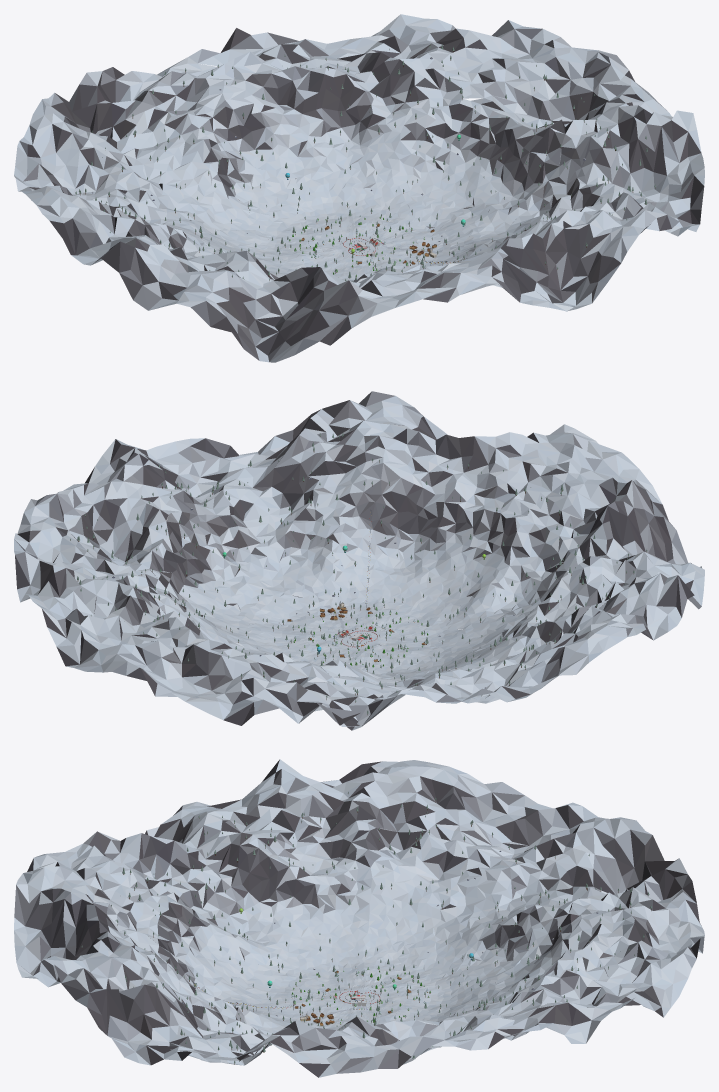
Rendered from world_race.glb.
The picture shows the model from 3 angles, top to bottom: view 1: azimuth 30°, elevation 25°; view 2: azimuth 150°, elevation 25°; view 3: azimuth 270°, elevation 25°; orthographic projection.
Visible parts, largest first — view 1: Sector4, Sector5, Sector6, Sector3, Sector0, Sector7, Sector2, Sector1; view 2: Sector1, Sector2, Sector3, Sector4, Sector5, Sector0, Sector7, Sector6; view 3: Sector7, Sector0, Sector6, Sector1, Sector2, Sector5, Sector3, Sector4.
Boxes of the visible parts, x1=… form: Sector4: x1=359, y1=20, x2=656, y2=247; Sector5: x1=188, y1=14, x2=452, y2=245; Sector6: x1=29, y1=57, x2=357, y2=246; Sector3: x1=360, y1=89, x2=704, y2=256; Sector0: x1=59, y1=215, x2=360, y2=362; Sector7: x1=14, y1=124, x2=356, y2=263; Sector2: x1=360, y1=192, x2=690, y2=311; Sector1: x1=268, y1=247, x2=521, y2=362; Sector1: x1=360, y1=424, x2=688, y2=638; Sector2: x1=270, y1=391, x2=495, y2=638; Sector3: x1=63, y1=435, x2=360, y2=637; Sector4: x1=14, y1=485, x2=359, y2=646; Sector5: x1=25, y1=580, x2=357, y2=701; Sector0: x1=359, y1=524, x2=704, y2=654; Sector7: x1=360, y1=606, x2=652, y2=703; Sector6: x1=185, y1=639, x2=447, y2=730; Sector7: x1=346, y1=760, x2=603, y2=996; Sector0: x1=145, y1=759, x2=367, y2=996; Sector6: x1=362, y1=817, x2=704, y2=998; Sector1: x1=14, y1=831, x2=355, y2=998; Sector2: x1=14, y1=892, x2=355, y2=1043; Sector5: x1=361, y1=916, x2=704, y2=1021; Sector3: x1=112, y1=987, x2=373, y2=1077; Sector4: x1=349, y1=984, x2=600, y2=1072.
Size of the model in its own units: 1440 by 242 by 1440.
